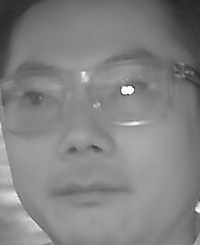eye: (21, 89, 57, 108)
glass: (85, 57, 176, 126), (2, 70, 70, 132)
mouth: (50, 175, 126, 211)
